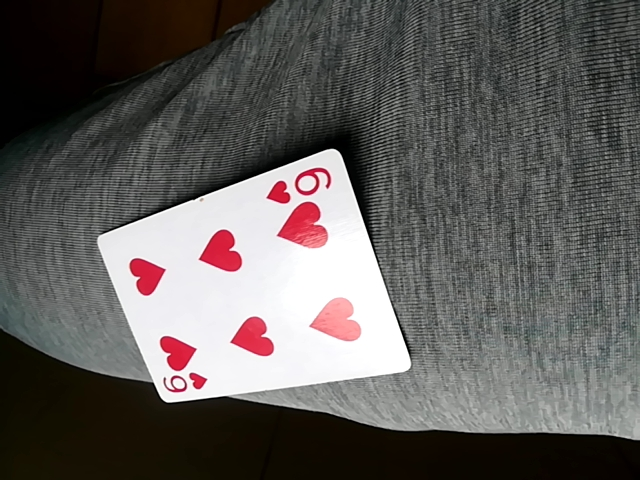hx 6: (97, 147, 406, 406)
